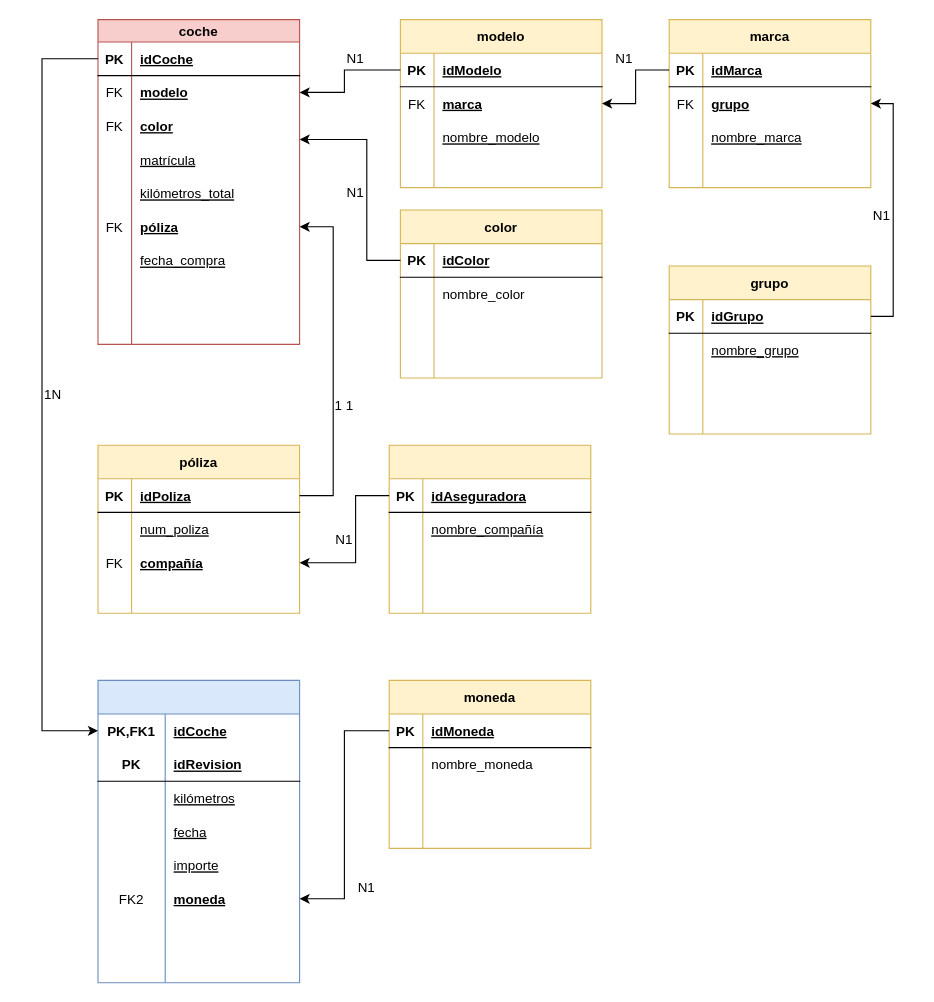
Some shapes in this 934 by 1002 pixel diagram are drawn without their labels. The box of each missing label's shape, as (x1, y1, x2, y2) in pixels:
compañía aseguradora: (388, 444, 591, 613)
revisión: (97, 679, 300, 983)
